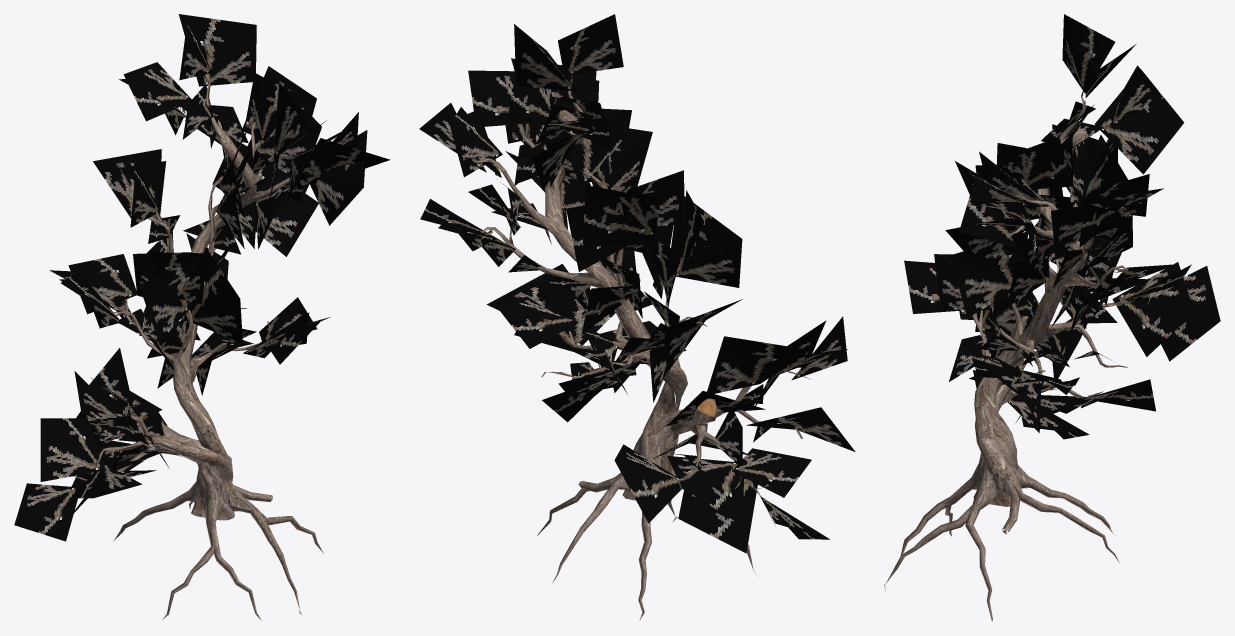
File: oldtree-far.glb
3 renders of one model, left to right at view 1: azimuth 30°, elevation 25°; view 2: azimuth 150°, elevation 25°; view 3: azimuth 270°, elevation 25°, orthographic. The views are drawn at different scales.
Parts seen in each view (by area): view 1: Tree_2, Tree_0; view 2: Tree_2, Tree_0; view 3: Tree_2, Tree_0.
Part boxes in pixels (left/top/right/bottom): Tree_2: left=14, top=14, right=390, bottom=541; Tree_0: left=73, top=74, right=323, bottom=620; Tree_2: left=419, top=14, right=855, bottom=553; Tree_0: left=477, top=71, right=811, bottom=620; Tree_2: left=904, top=14, right=1220, bottom=439; Tree_0: left=884, top=91, right=1150, bottom=621.
Bounding box in the file's own units: 5.71 × 8.58 × 4.64.
3 materials, 3 textured.
